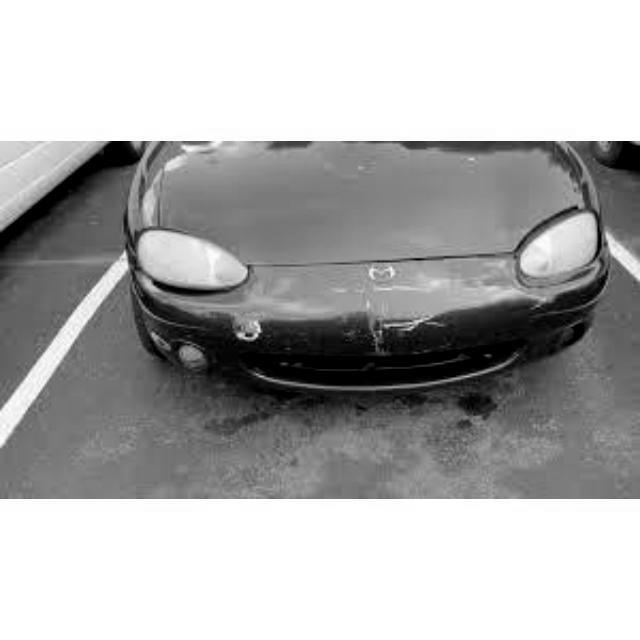front-bumper-dent: (248, 280, 497, 390)
